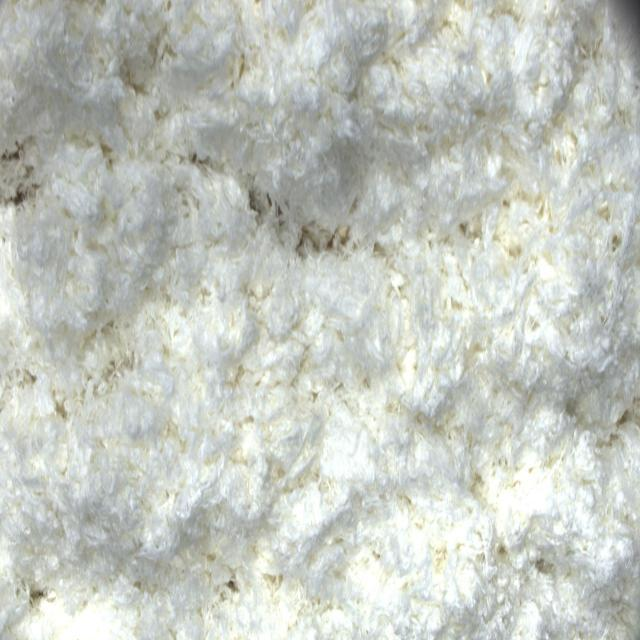dust: (241, 179, 283, 221), (3, 148, 29, 210), (300, 226, 346, 252)
